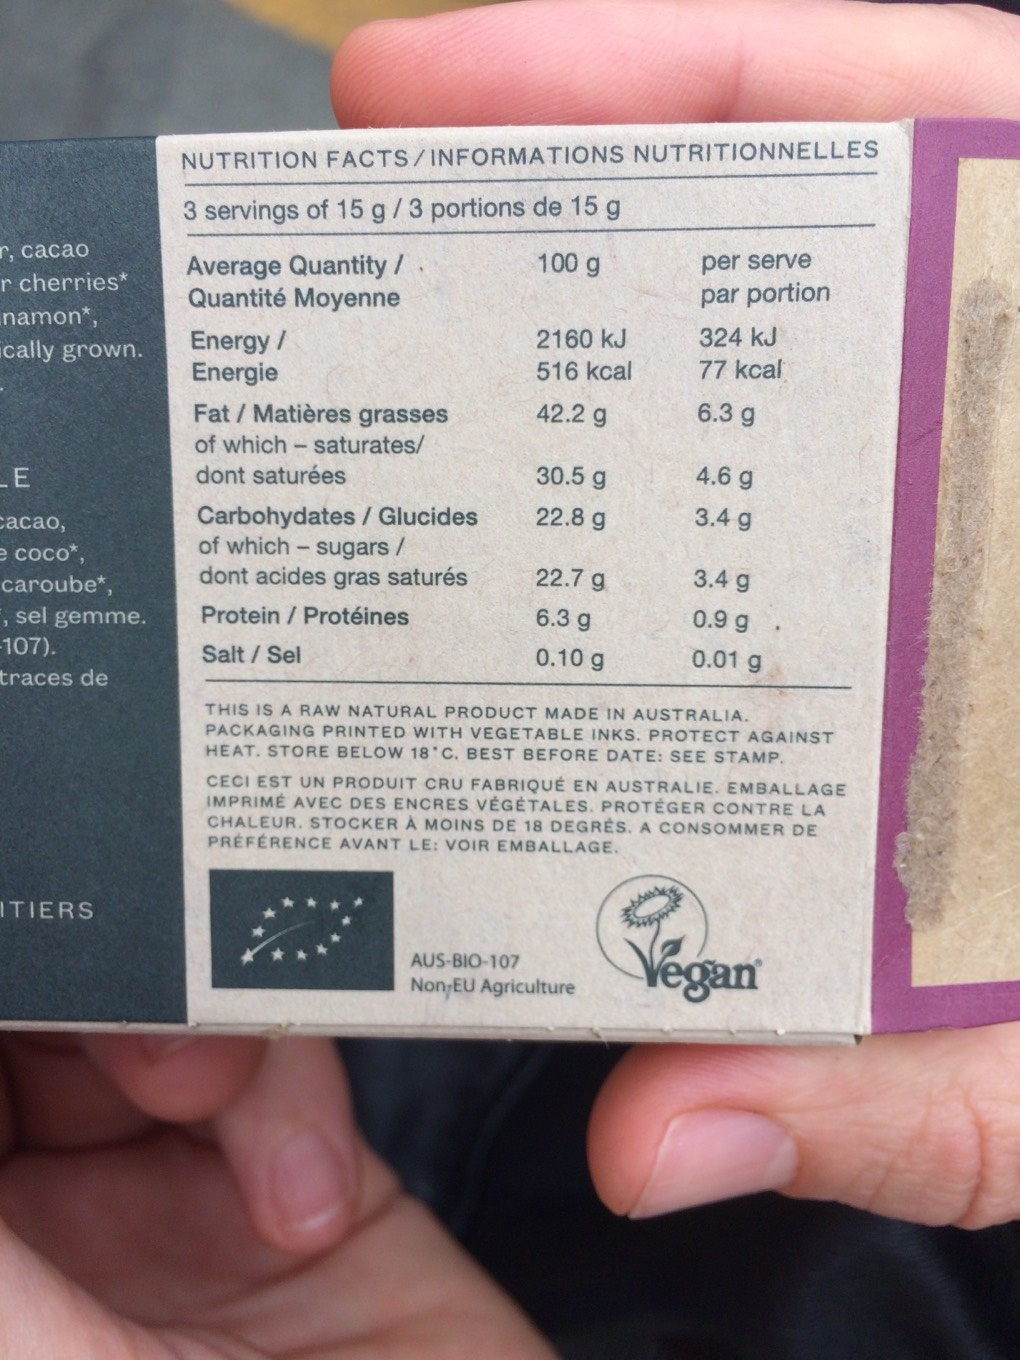column: (187, 254, 483, 668), (692, 245, 829, 676), (529, 250, 635, 670)
table: (177, 143, 883, 691)
